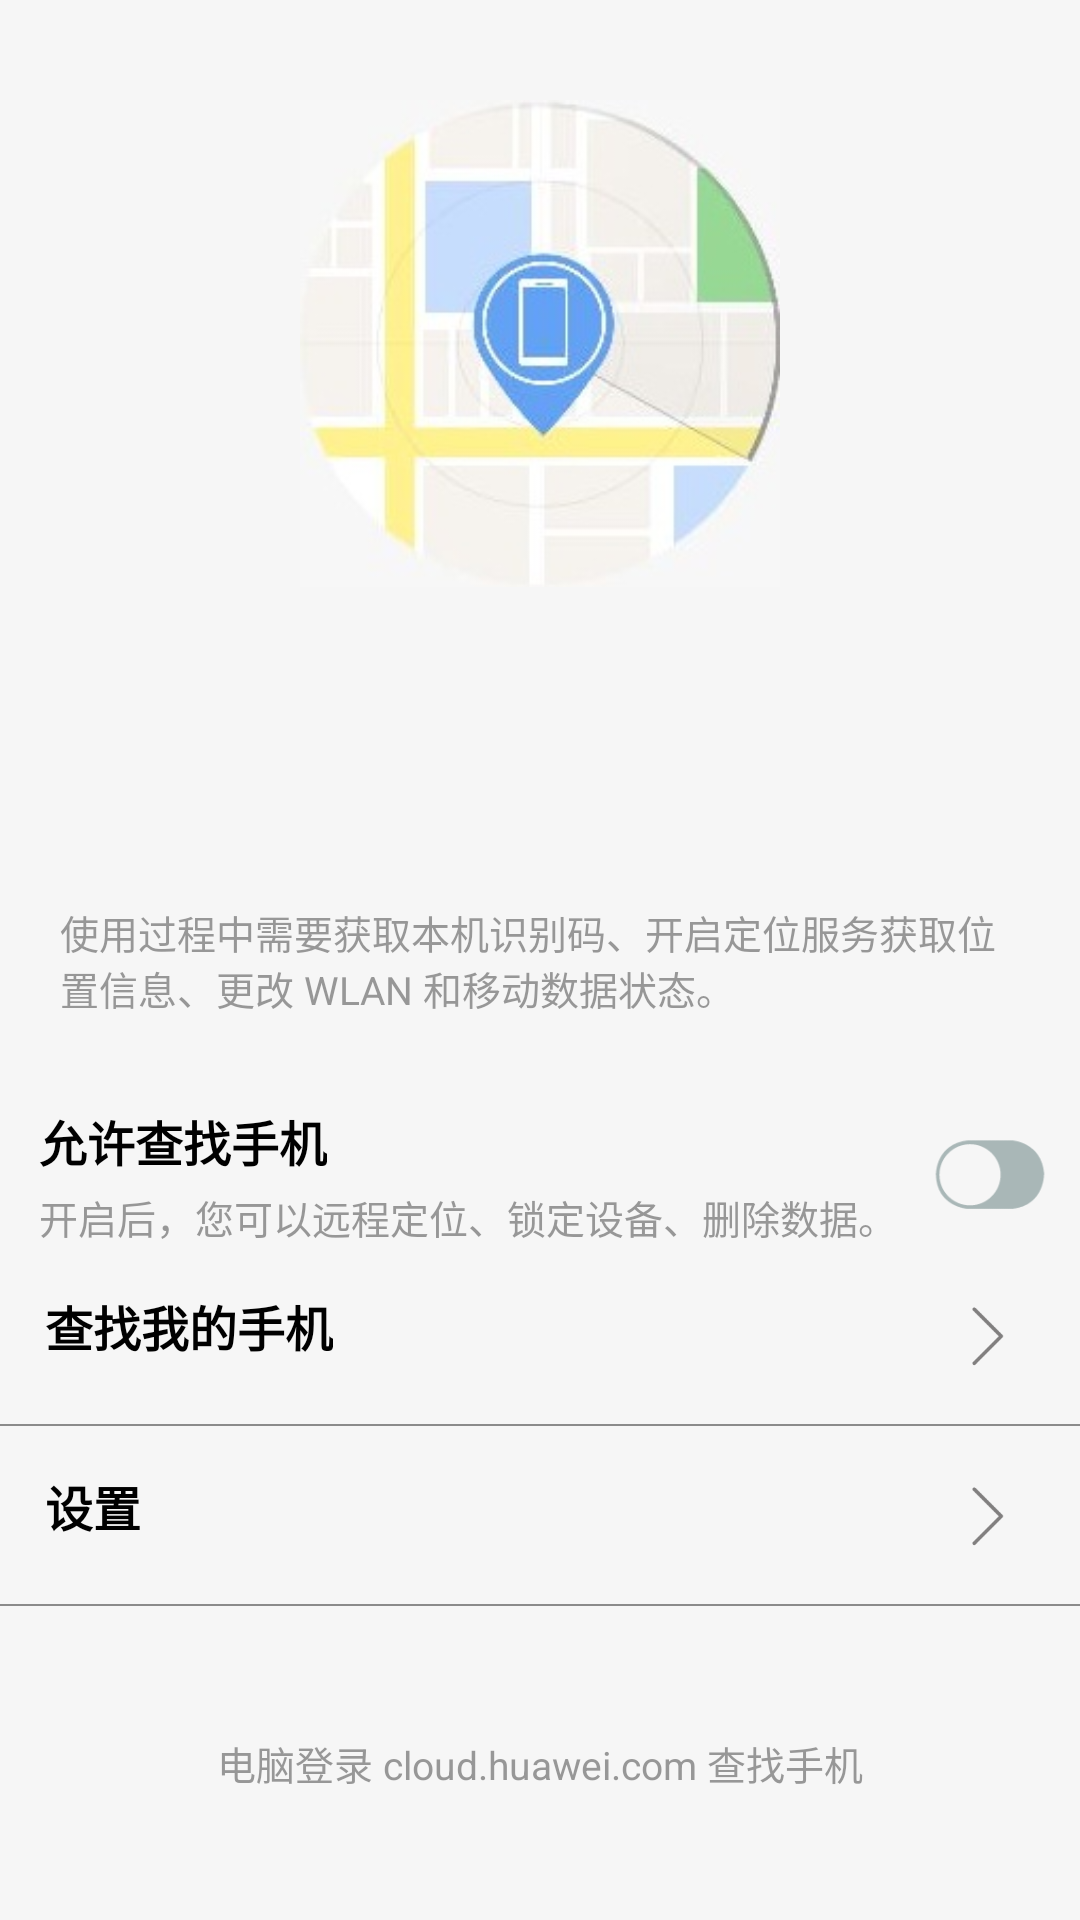

Where to tap for icons on this 1080 × 1920 app screen, as point (x, y):
arrow: point (987, 1336), point (987, 1516)
